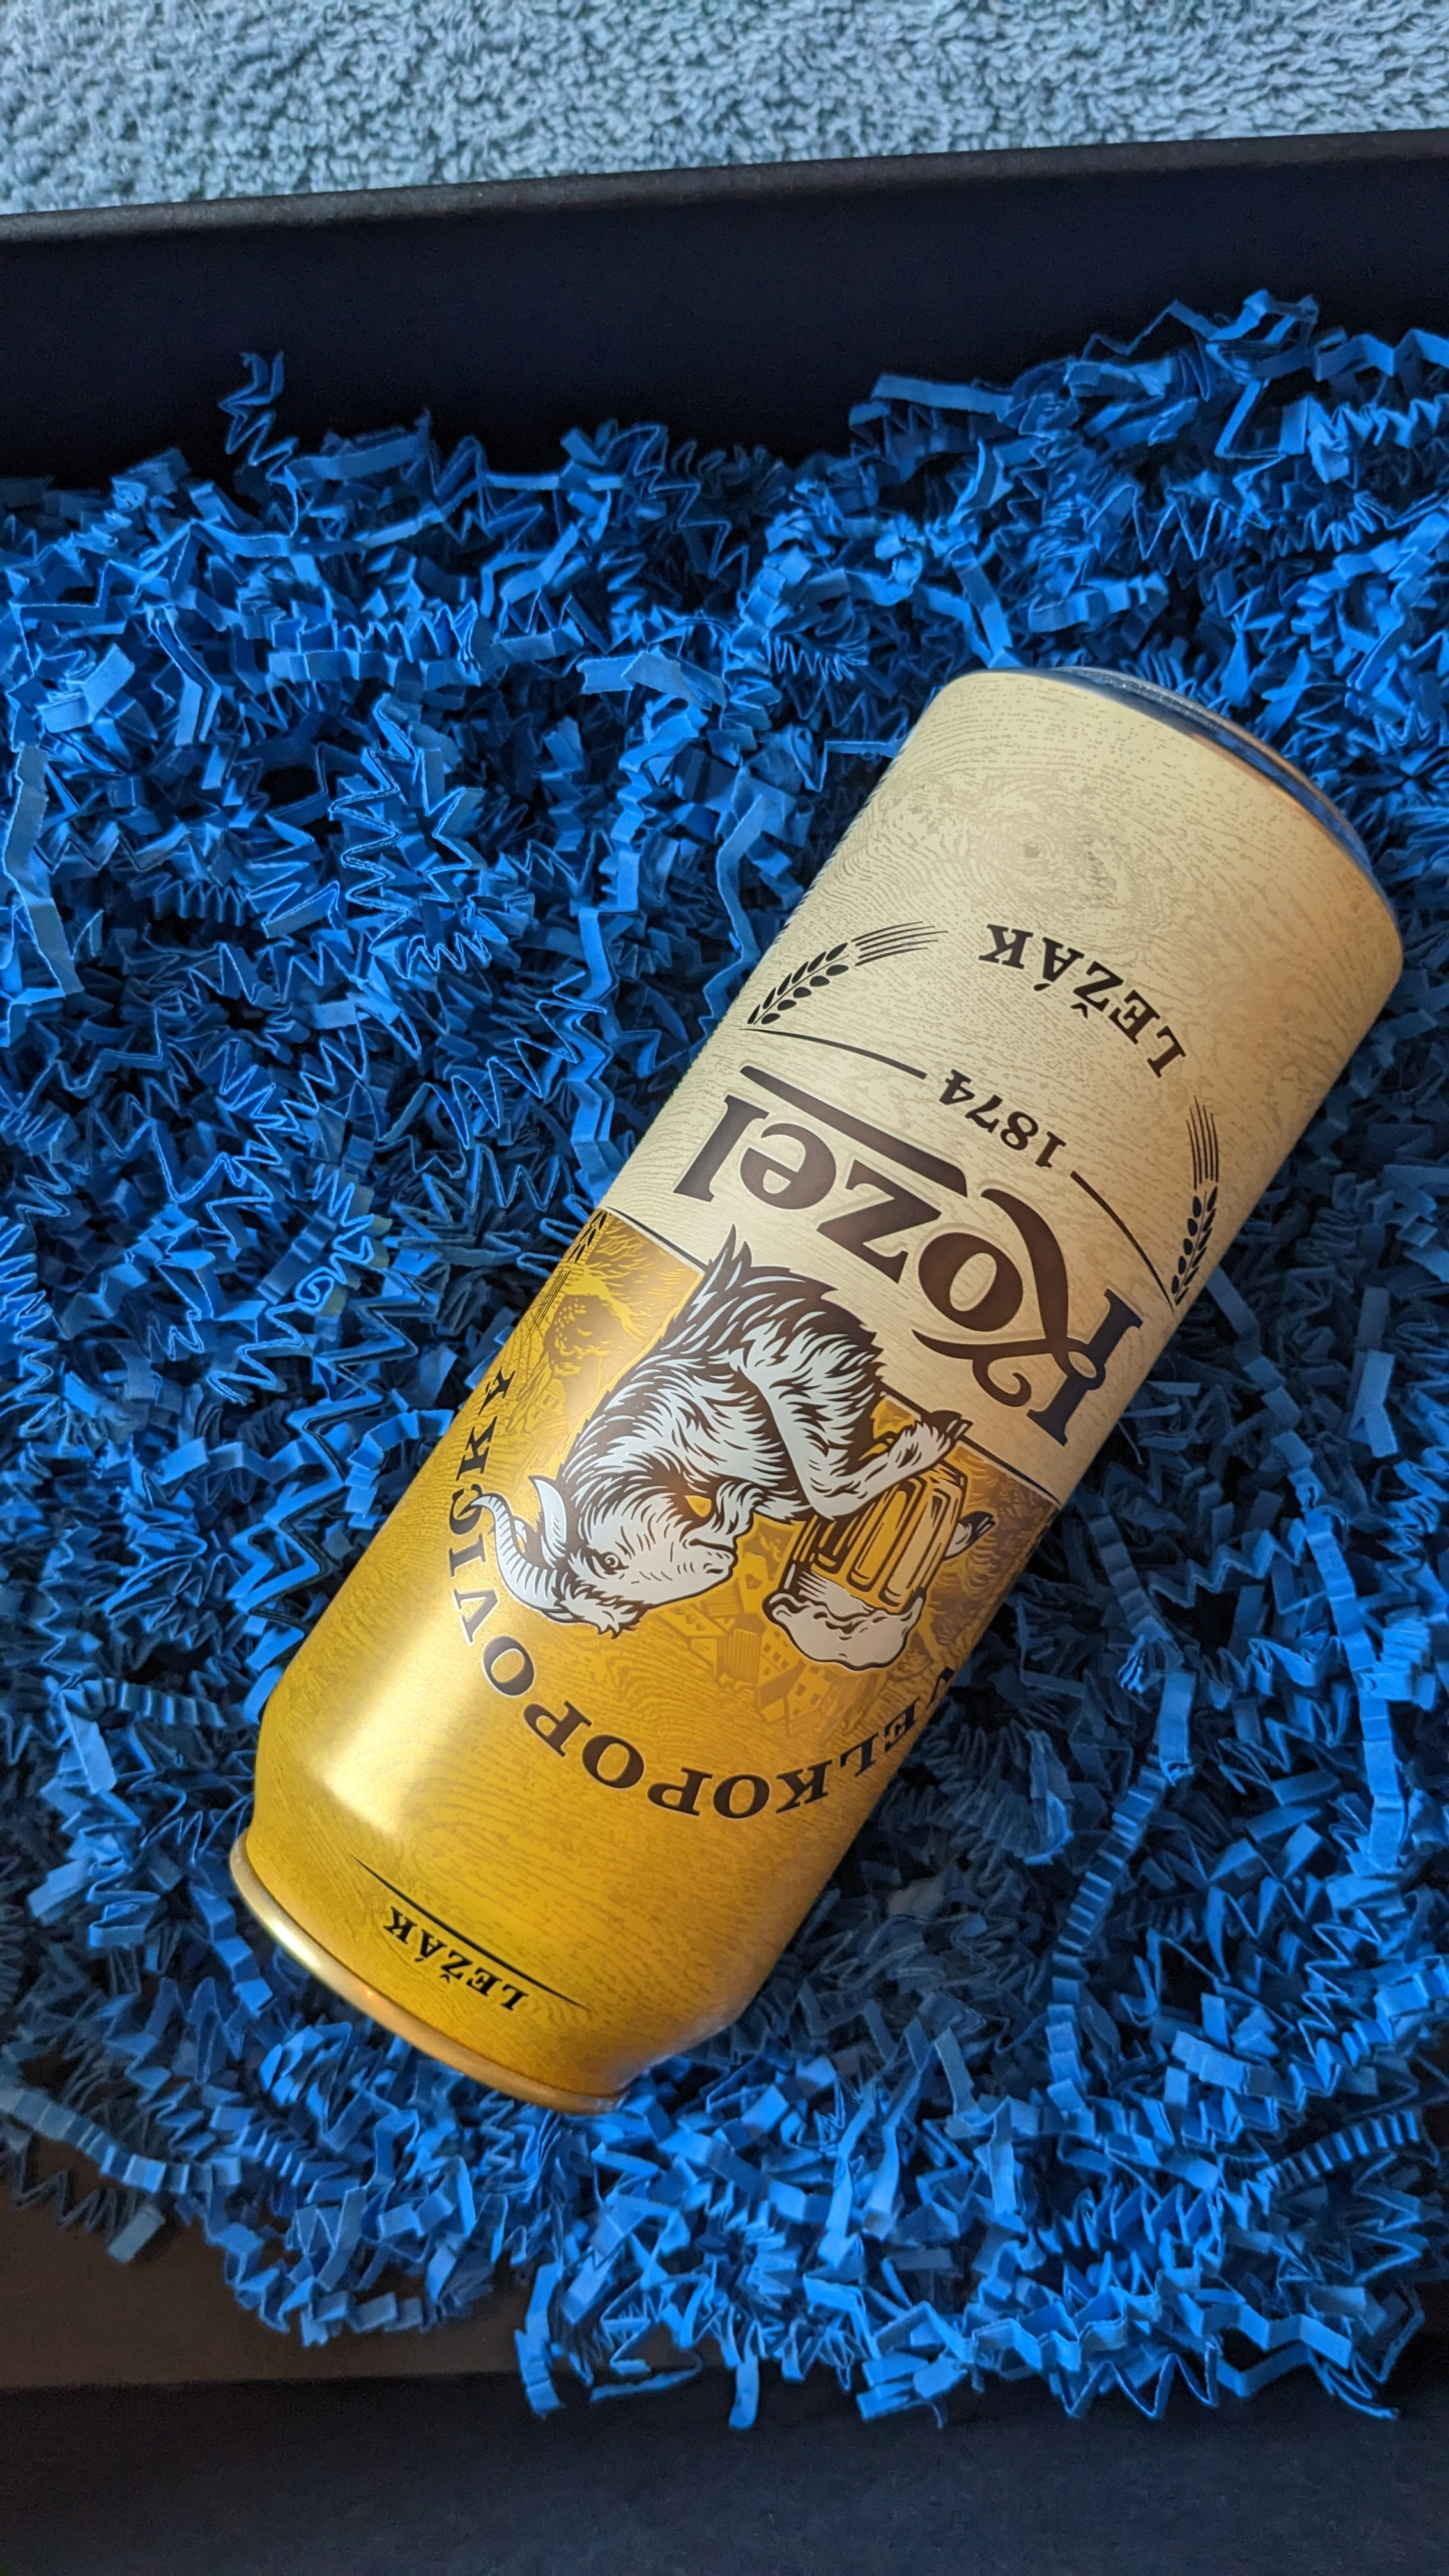kozel: (179, 630, 1419, 2107)
